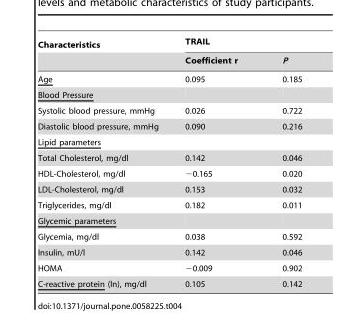table: (36, 36, 301, 288)
table column: (36, 36, 171, 288), (171, 36, 258, 288), (258, 36, 301, 288)
table column header: (36, 36, 301, 69)
table projected row header: (36, 86, 301, 102), (36, 212, 301, 228), (36, 134, 301, 149)
table row: (36, 52, 301, 69), (36, 69, 301, 86), (36, 36, 301, 52), (36, 86, 301, 102), (36, 102, 301, 118), (36, 118, 301, 134), (36, 149, 301, 165), (36, 165, 301, 181), (36, 181, 301, 197), (36, 212, 301, 228), (36, 228, 301, 244), (36, 259, 301, 275), (36, 134, 301, 149), (36, 197, 301, 212), (36, 244, 301, 259), (36, 275, 301, 288)
table spanning cell: (36, 36, 171, 69), (171, 36, 301, 52)
